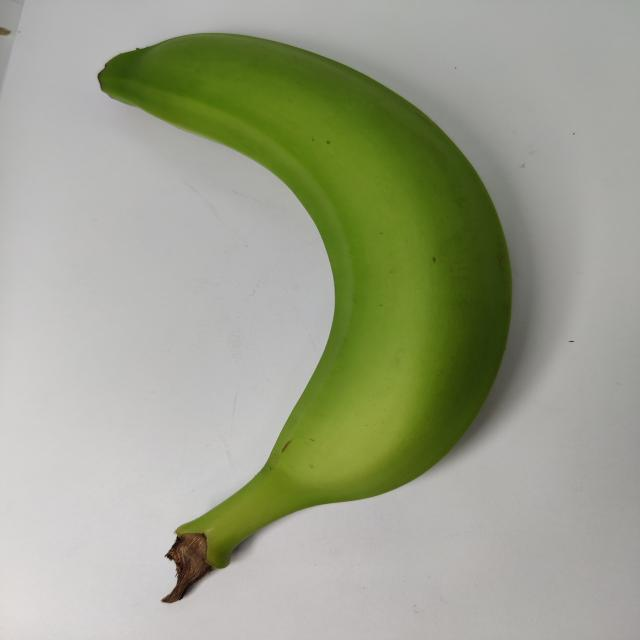raw: (32, 9, 557, 612)
